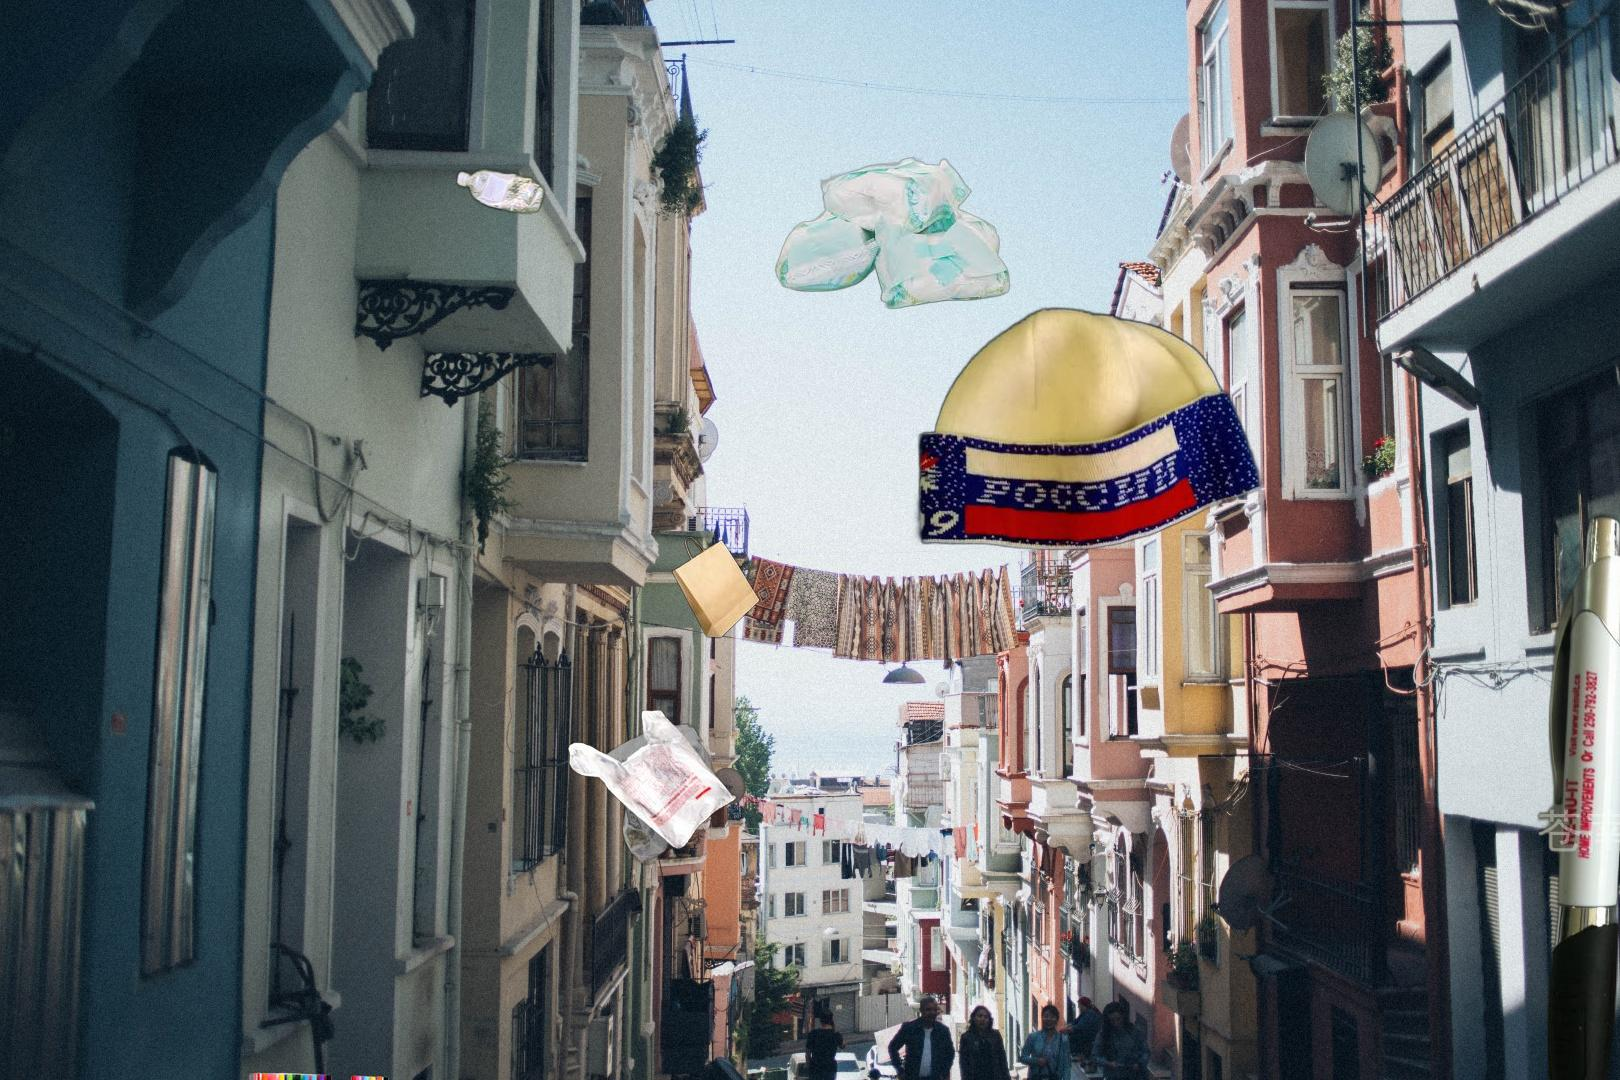clothes: (908, 304, 1267, 554)
paper-bag: (670, 535, 763, 639)
penholder: (1534, 492, 1620, 1080), (217, 1070, 427, 1080)
plastic-bag: (565, 708, 739, 868)
plastic-bottles: (274, 162, 548, 675)
trash: (773, 154, 1012, 312), (1600, 550, 1620, 702)
